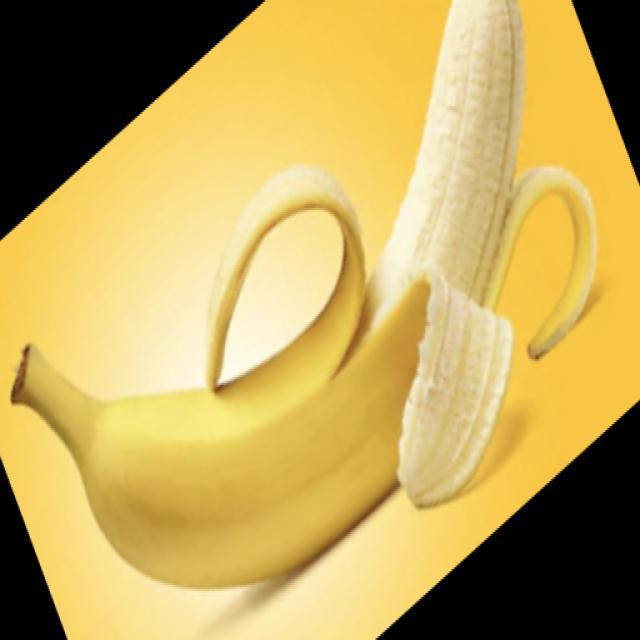Banana: (8, 0, 598, 590)
